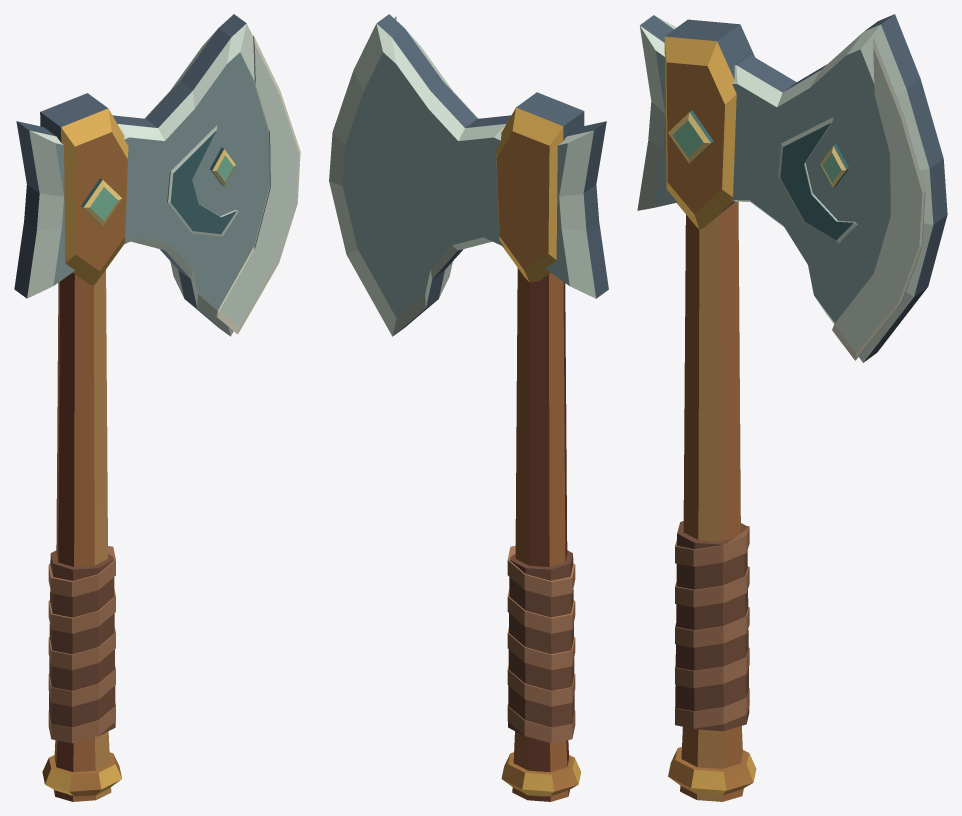
The model's file is axe.obj.
3 views of the same model, side by side, from view 1: azimuth 30°, elevation 25°; view 2: azimuth 150°, elevation 25°; view 3: azimuth 330°, elevation 25° (orthographic). The views are drawn at different scales.
Visible parts, largest first — view 1: Crescent_head, Ash_wood_haft, Socket, Crescent_polished_edge, Leather_grip, Crescent_engraving, Butt_cap, Wrap_0, Wrap_1, Wrap_2, Wrap_3, Wrap_4 (+2 smaller); view 2: Crescent_head, Ash_wood_haft, Socket, Leather_grip, Butt_cap, Wrap_0, Wrap_1, Wrap_2, Wrap_3, Wrap_4; view 3: Crescent_head, Ash_wood_haft, Socket, Crescent_polished_edge, Leather_grip, Crescent_engraving, Butt_cap, Wrap_0, Wrap_1, Wrap_2, Wrap_3, Wrap_4 (+2 smaller).
Boxes of the visible parts, x1,y1,x2,y2 form: Crescent_head: [14, 14, 269, 336]; Ash_wood_haft: [53, 270, 111, 801]; Socket: [40, 93, 128, 285]; Crescent_polished_edge: [216, 35, 300, 334]; Leather_grip: [49, 550, 115, 736]; Crescent_engraving: [167, 124, 238, 236]; Butt_cap: [42, 752, 121, 796]; Wrap_0: [48, 546, 115, 597]; Wrap_1: [48, 589, 115, 633]; Wrap_2: [48, 627, 115, 670]; Wrap_3: [48, 665, 115, 706]; Wrap_4: [48, 705, 115, 743]; Crescent_head: [329, 14, 608, 336]; Ash_wood_haft: [512, 268, 569, 801]; Socket: [496, 92, 584, 282]; Leather_grip: [508, 550, 574, 736]; Butt_cap: [501, 752, 581, 796]; Wrap_0: [507, 545, 575, 597]; Wrap_1: [507, 589, 575, 633]; Wrap_2: [507, 627, 575, 670]; Wrap_3: [507, 665, 575, 706]; Wrap_4: [507, 703, 575, 743]; Crescent_head: [637, 14, 947, 362]; Ash_wood_haft: [680, 201, 743, 801]; Socket: [664, 19, 755, 229]; Crescent_polished_edge: [832, 38, 925, 360]; Leather_grip: [675, 521, 749, 731]; Crescent_engraving: [778, 117, 857, 243]; Butt_cap: [668, 747, 756, 795]; Wrap_0: [675, 526, 749, 566]; Wrap_1: [675, 566, 749, 607]; Wrap_2: [675, 607, 749, 647]; Wrap_3: [675, 647, 749, 688]; Wrap_4: [675, 688, 749, 728].
Size of the model in its own units: 1.2 by 3.14 by 0.3172.
